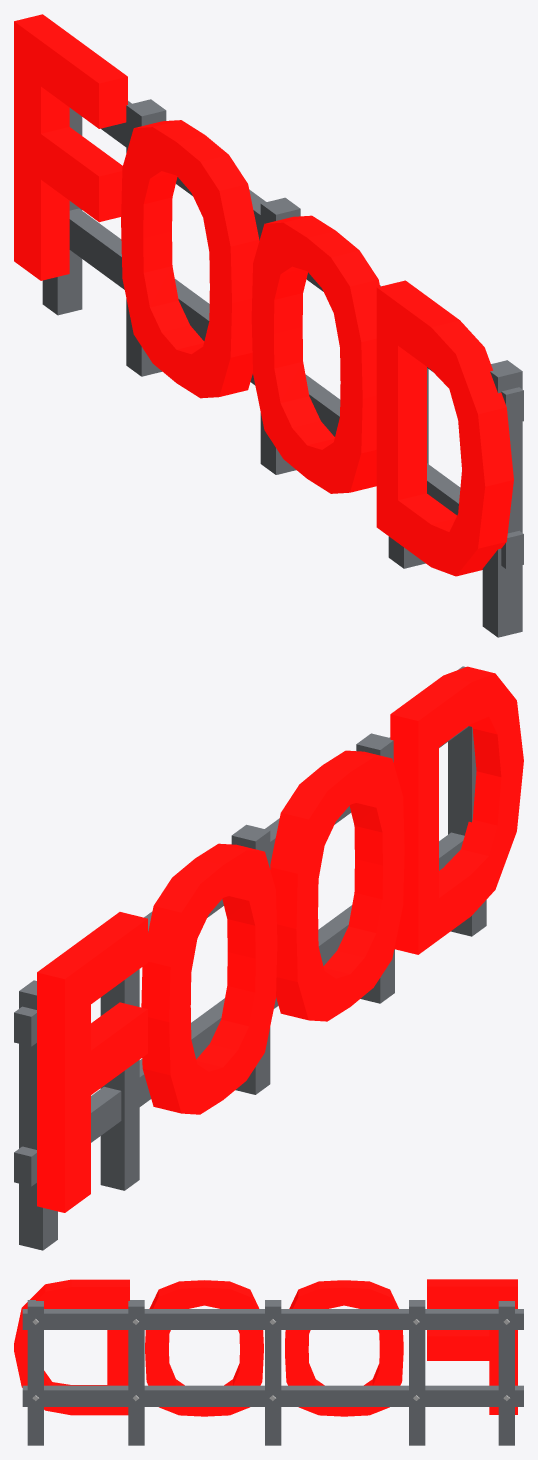
The model's file is SM_Hoarding_02.fbx.
3 renders of one model, top to bottom at view 1: azimuth 30°, elevation 25°; view 2: azimuth 150°, elevation 25°; view 3: azimuth 270°, elevation 25°, orthographic. The views are drawn at different scales.
Visible parts, largest first — view 1: SM_Hoarding_02_LOD0; view 2: SM_Hoarding_02_LOD0; view 3: SM_Hoarding_02_LOD0.
Part boxes in pixels (box(x1,y1,x2,y2)): SM_Hoarding_02_LOD0: box(14, 14, 523, 637); SM_Hoarding_02_LOD0: box(14, 666, 523, 1250); SM_Hoarding_02_LOD0: box(14, 1279, 523, 1445).
Bounding box in the file's own units: 47.8 × 763 × 253.
1 material, 1 textured.
